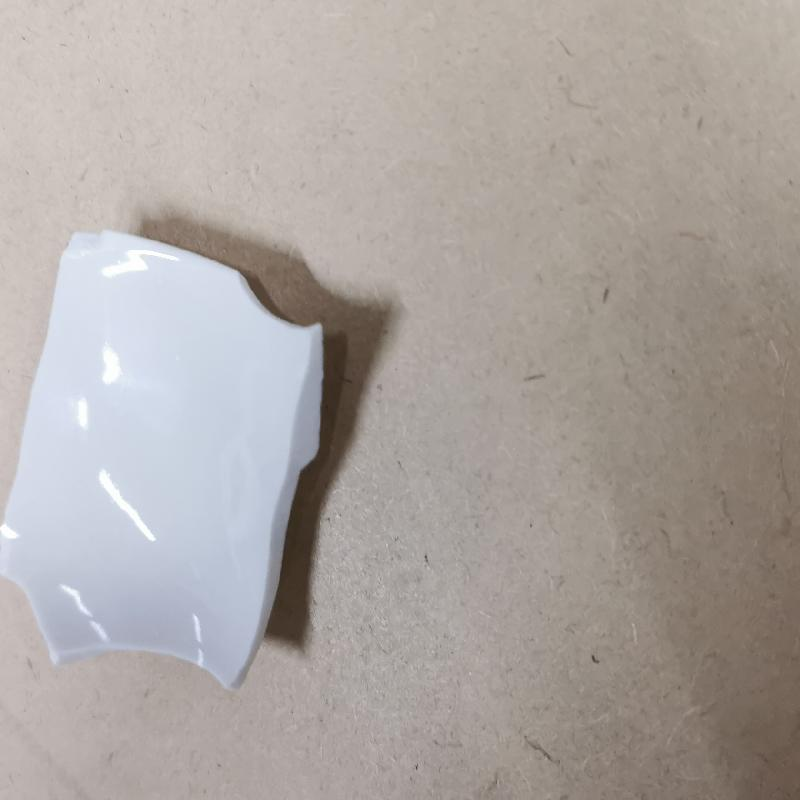ceram: (0, 226, 326, 701)
